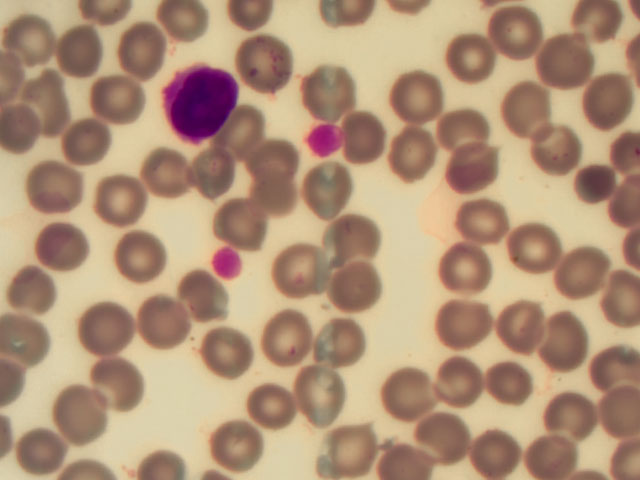Platelets: (302, 118, 342, 157), (210, 245, 245, 280)
RBC: (502, 220, 563, 277), (207, 409, 268, 466), (235, 376, 296, 433), (293, 367, 354, 424), (495, 293, 551, 353), (434, 243, 486, 300), (554, 247, 614, 296), (580, 341, 640, 390), (580, 388, 640, 437), (580, 431, 640, 480), (522, 431, 582, 480), (547, 393, 607, 442), (452, 428, 512, 477), (415, 411, 475, 460), (377, 428, 437, 477), (380, 371, 440, 420), (322, 425, 382, 474), (435, 361, 495, 410), (482, 367, 542, 416), (58, 24, 108, 73), (10, 6, 60, 55), (19, 74, 69, 123), (5, 112, 55, 161), (68, 115, 118, 164), (33, 161, 83, 210), (39, 221, 89, 270), (4, 271, 54, 320), (84, 297, 134, 346), (94, 350, 144, 399), (66, 384, 116, 433), (29, 421, 79, 470), (1, 314, 51, 363), (140, 299, 190, 348), (176, 273, 226, 322), (110, 232, 160, 281), (99, 173, 149, 222), (141, 153, 191, 202), (186, 145, 236, 194), (226, 106, 276, 155), (249, 144, 299, 193), (245, 167, 295, 216), (209, 189, 259, 238), (274, 242, 324, 291), (88, 72, 138, 121), (115, 29, 165, 78), (234, 34, 284, 83), (310, 67, 360, 116), (343, 114, 393, 163), (305, 168, 355, 217), (326, 211, 376, 260), (340, 274, 390, 323), (321, 326, 371, 375), (264, 316, 314, 365), (203, 320, 253, 369), (204, 355, 254, 404), (397, 73, 447, 122), (386, 136, 436, 185), (442, 95, 492, 144), (448, 142, 498, 191), (496, 77, 546, 126), (446, 40, 496, 89), (489, 9, 539, 58), (539, 33, 589, 82), (586, 73, 636, 122), (576, 5, 626, 54), (541, 127, 591, 176), (568, 152, 618, 201), (458, 191, 508, 240), (436, 303, 486, 352), (542, 321, 591, 371), (150, 1, 210, 40)
WBC: (161, 63, 237, 142)
